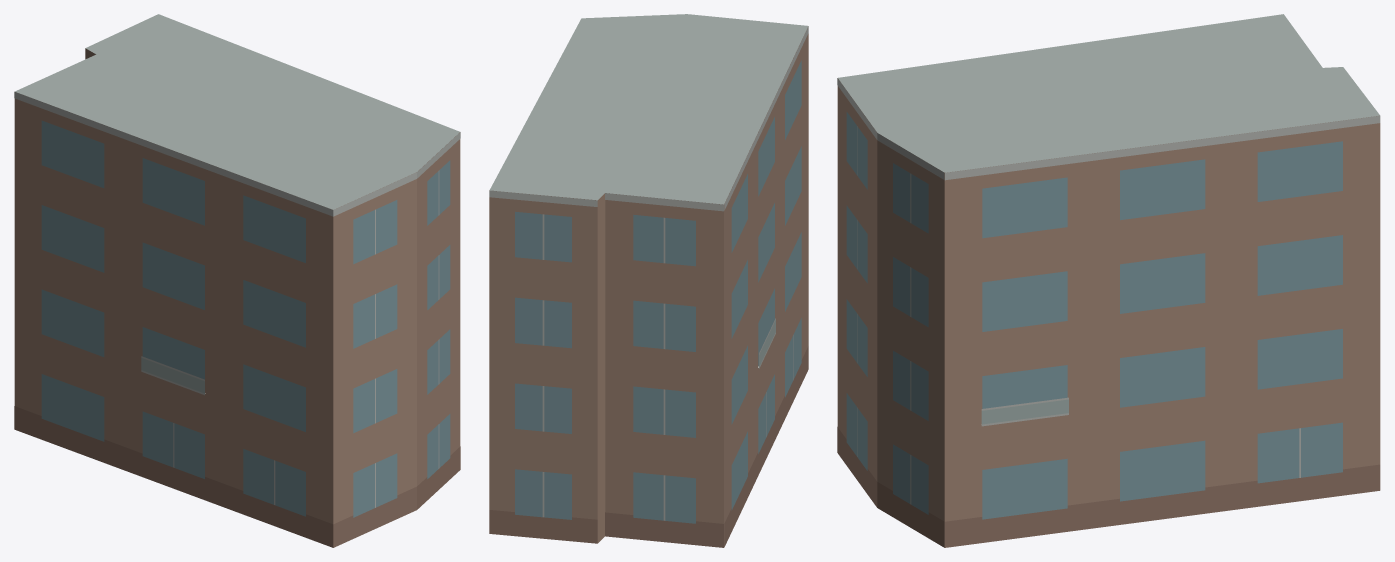
Rendered from survey-upis-32509600.glb.
3 renders of one model, left to right at view 1: azimuth 30°, elevation 25°; view 2: azimuth 150°, elevation 25°; view 3: azimuth 270°, elevation 25°, orthographic. The views are drawn at different scales.
Visible parts, largest first — view 1: survey-upis-32509600.tmp; view 2: survey-upis-32509600.tmp; view 3: survey-upis-32509600.tmp.
Boxes of the visible parts, <box> form: survey-upis-32509600.tmp: <box>14,14,460,547</box>; survey-upis-32509600.tmp: <box>489,14,808,547</box>; survey-upis-32509600.tmp: <box>837,14,1380,547</box>.
Size of the model in its own units: 11.09 by 12.2 by 16.01.
